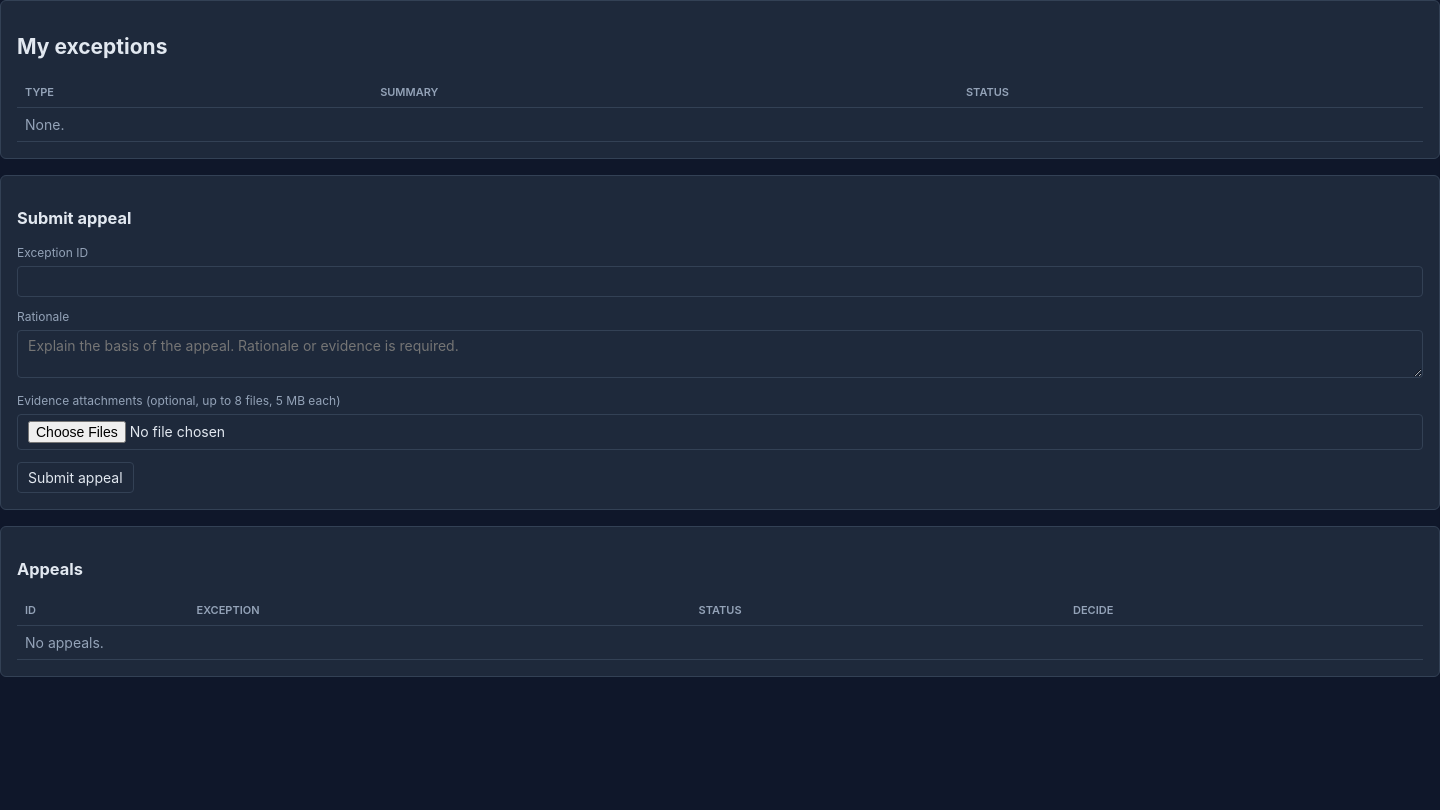
it: Appeals page — evidence attachment flow › shows a validation error when neither rationale nor evidence is provided
Type "ex-123" into the field labelled "Exception ID" at (720, 281), box [17,266,1423,297]
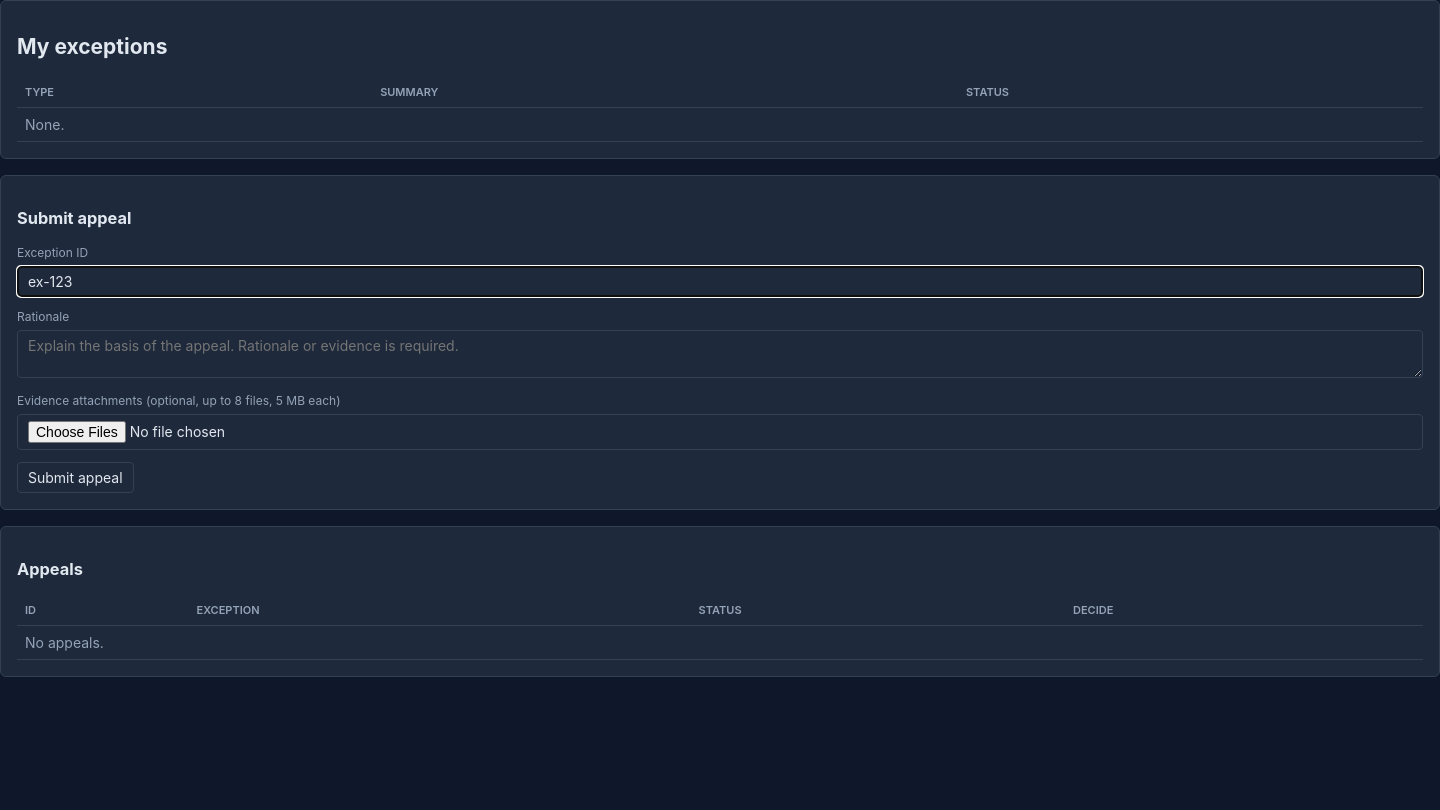
Click the button "Submit appeal" at (75, 477), box [17,462,134,493]
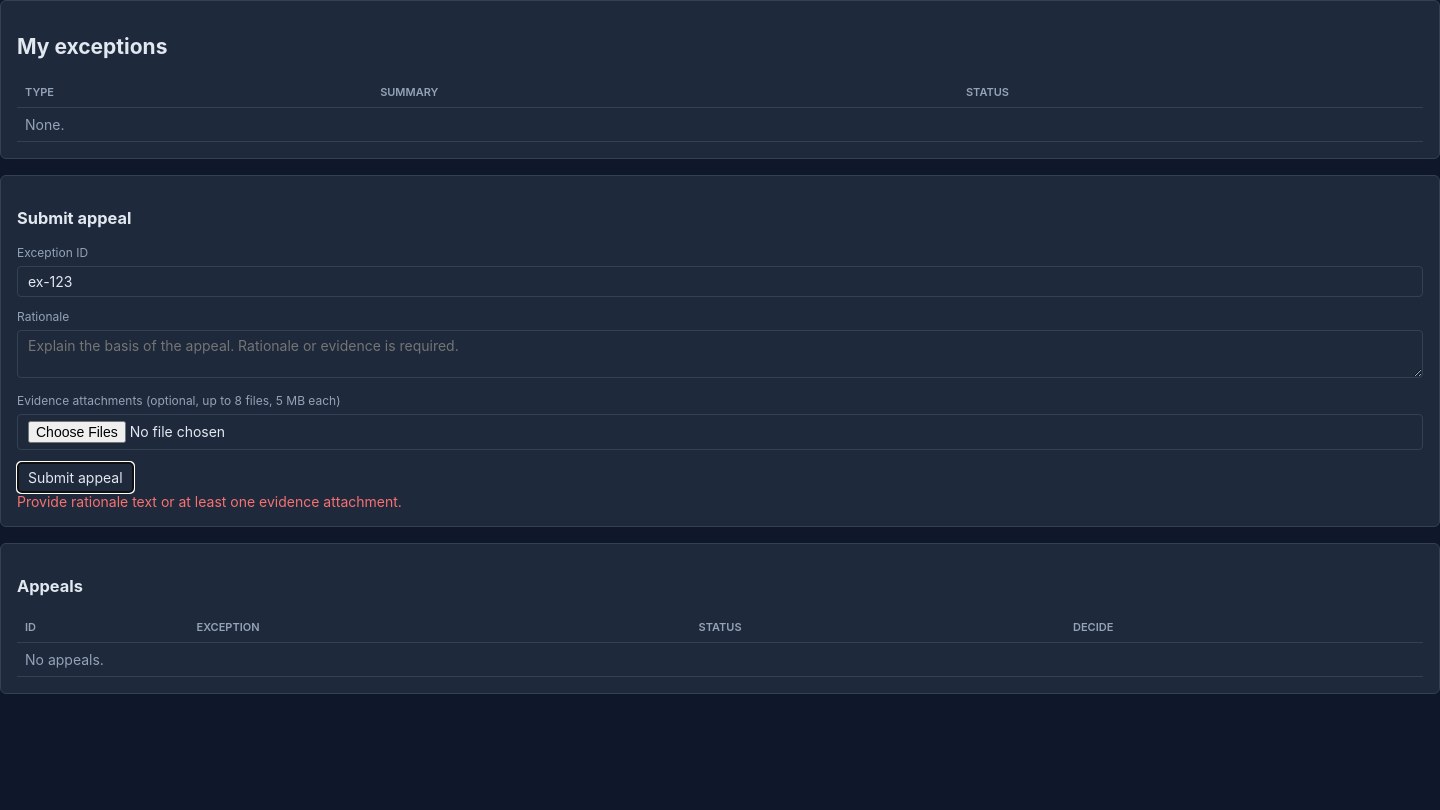
Result: the message reads "Provide rationale text or at least one evidence attachment." at [17,493,402,510]
